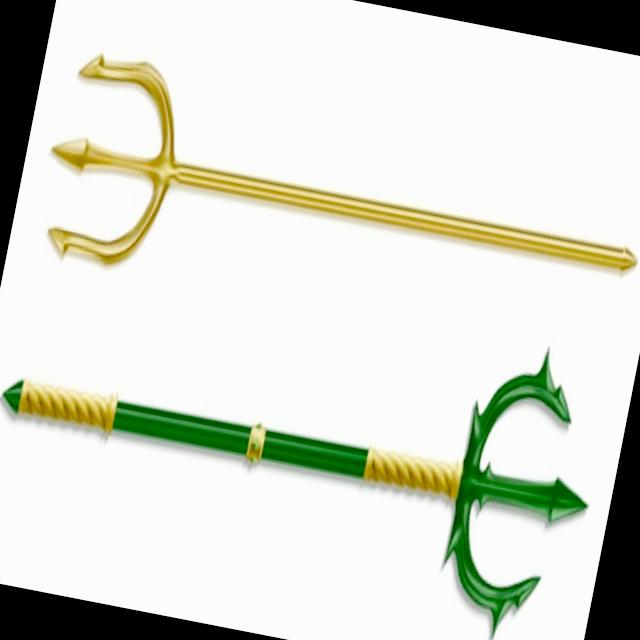spear: (0, 242, 619, 640), (26, 37, 640, 372)
